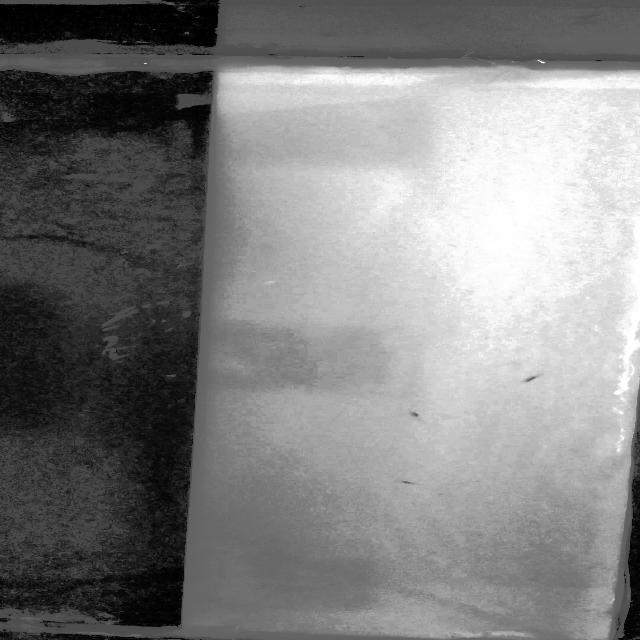shrimp: (520, 372, 554, 386), (401, 407, 433, 420), (398, 475, 424, 489)
